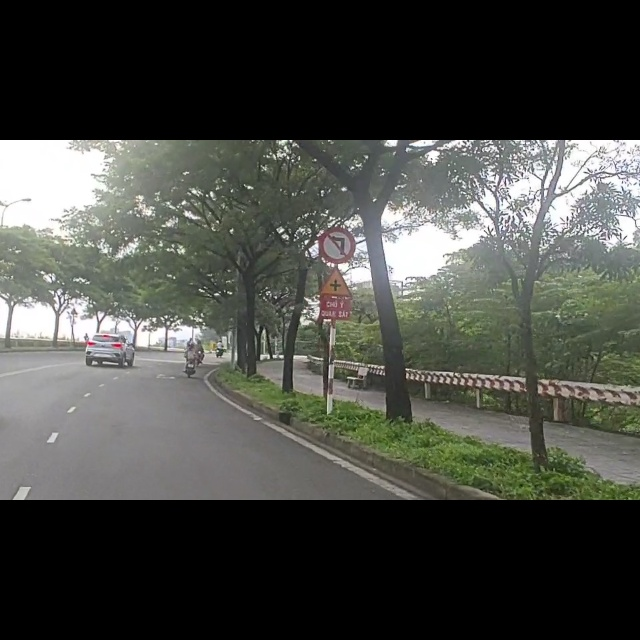bien_cam: (313, 148, 358, 223), (317, 223, 357, 280)
